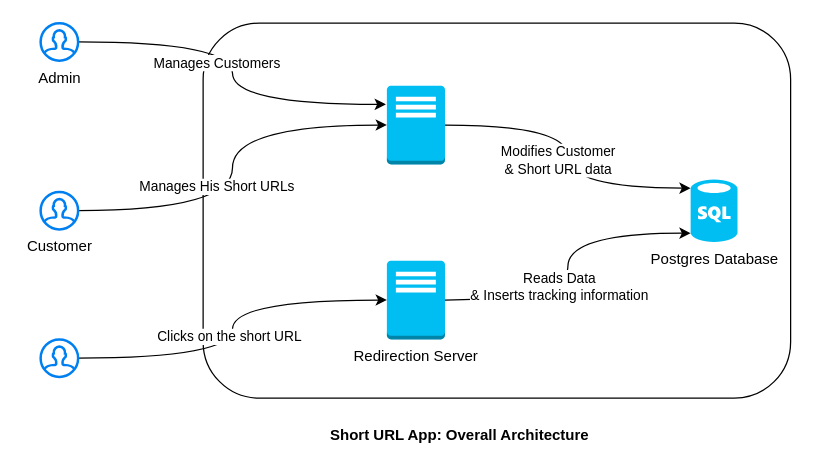
This 813x469 diagram has some shape labels left out. The centre of each missing label's shape, as x and y in pixels:
"API Server" goes at (415,124).
"Public User" goes at (59,358).
